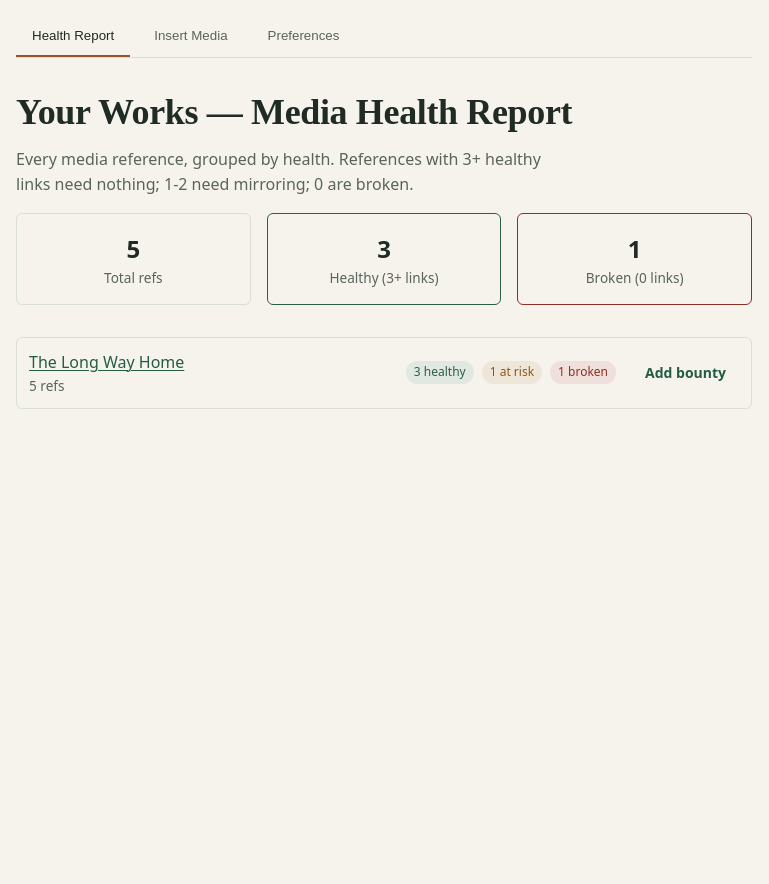
Test: AuthorMedia › switches to Insert tab and shows the form
Click the button "Insert Media".
click(191, 36)  # box x1=138 y1=16 x2=244 y2=57
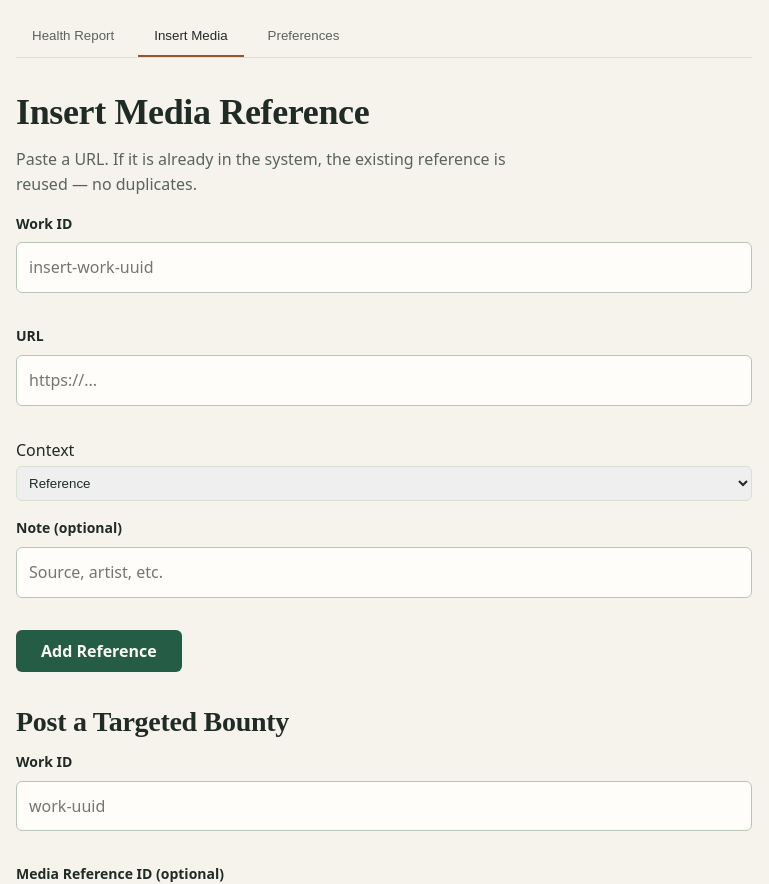
Expected: the heading "Insert Media Reference" is shown, x1=16 y1=92 x2=369 y2=132
Expected: the heading "Post a Targeted Bounty" is shown, x1=16 y1=706 x2=289 y2=737
